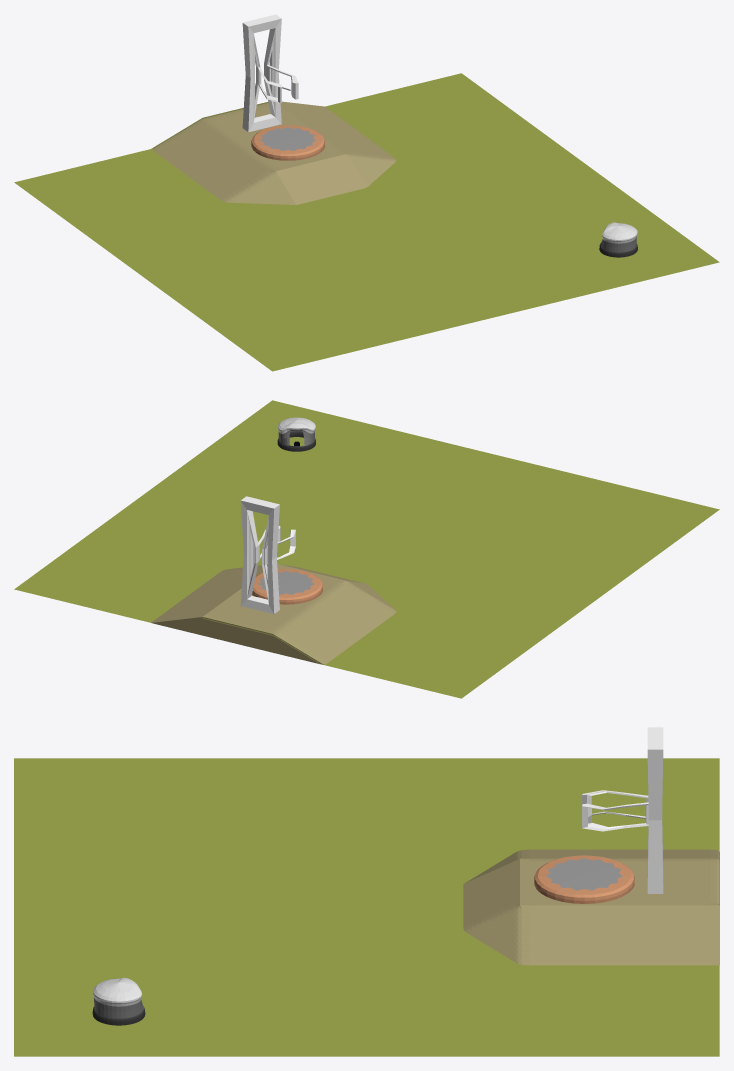
File: environment_test.glb
3 renders of one model, top to bottom at view 1: azimuth 30°, elevation 25°; view 2: azimuth 150°, elevation 25°; view 3: azimuth 270°, elevation 25°, orthographic. The views are drawn at different scales.
Visible parts, largest first — view 1: Environment, Hill, Stand, Pad, Room; view 2: Environment, Hill, Stand, Pad, Room; view 3: Environment, Hill, Pad, Stand, Room.
Part boxes in pixels (x1,y1,x2,y2): Environment: [14, 73, 719, 371]; Hill: [153, 101, 396, 204]; Stand: [242, 14, 298, 132]; Pad: [251, 125, 324, 160]; Room: [599, 222, 637, 257]; Environment: [14, 400, 719, 698]; Hill: [151, 564, 396, 664]; Stand: [240, 496, 295, 613]; Pad: [252, 569, 322, 604]; Room: [277, 417, 315, 451]; Environment: [14, 758, 719, 1056]; Hill: [463, 849, 719, 965]; Pad: [534, 855, 634, 903]; Stand: [582, 727, 663, 893]; Room: [92, 977, 145, 1025].
Bounding box in the file's own units: 300 × 79.53 × 300.
